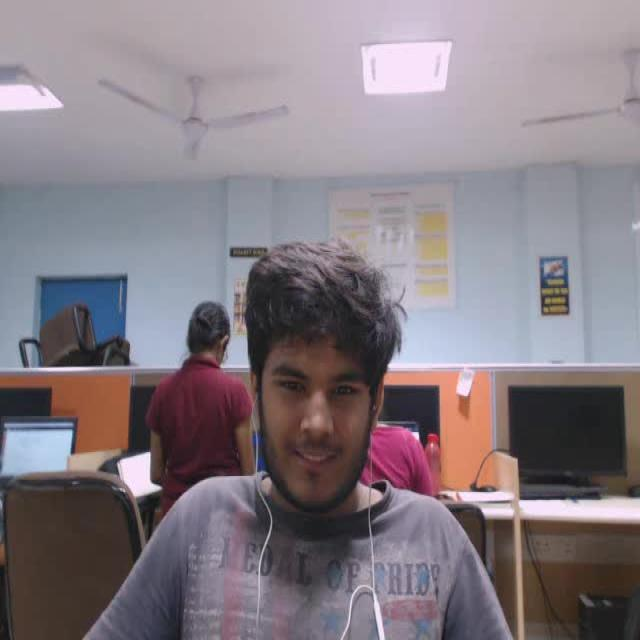Engaged: (236, 236, 427, 527)
